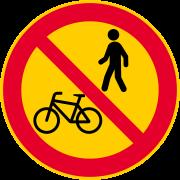Pedestrian Prohibited: (9, 7, 167, 163)
